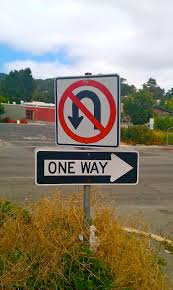No_u_turn: (58, 79, 116, 143)
